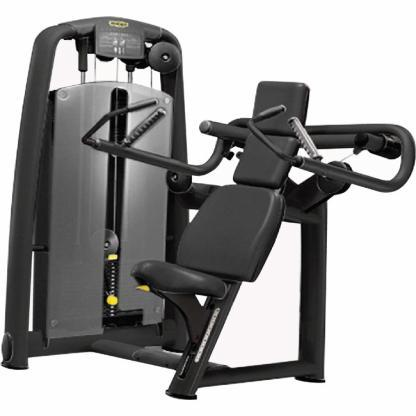shoulder press machine: (6, 17, 416, 399)
